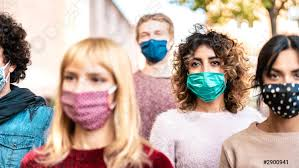with-mask: (53, 41, 126, 134), (183, 32, 237, 105), (256, 34, 299, 119), (1, 16, 41, 94), (134, 13, 173, 67)
